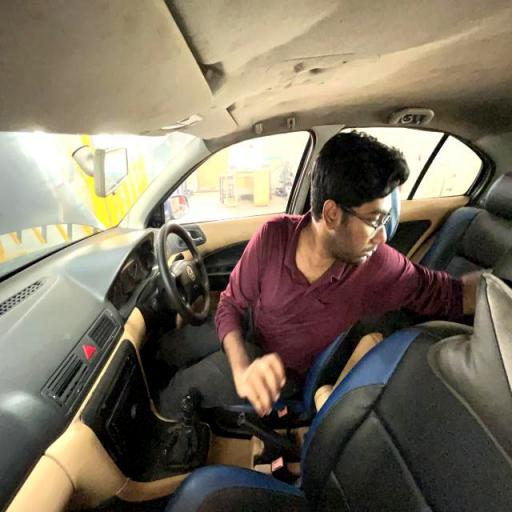Reaching_behind: (203, 130, 476, 419)
